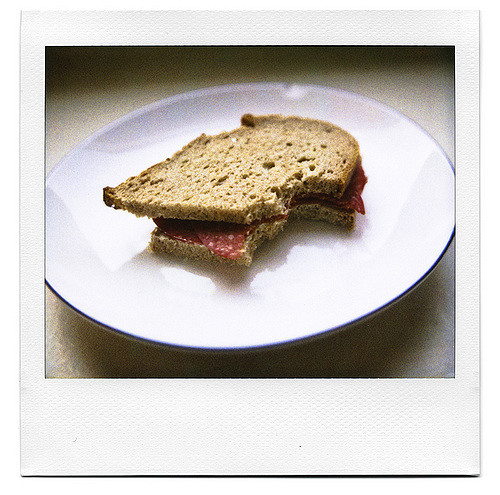slice of bread: (111, 123, 376, 262)
